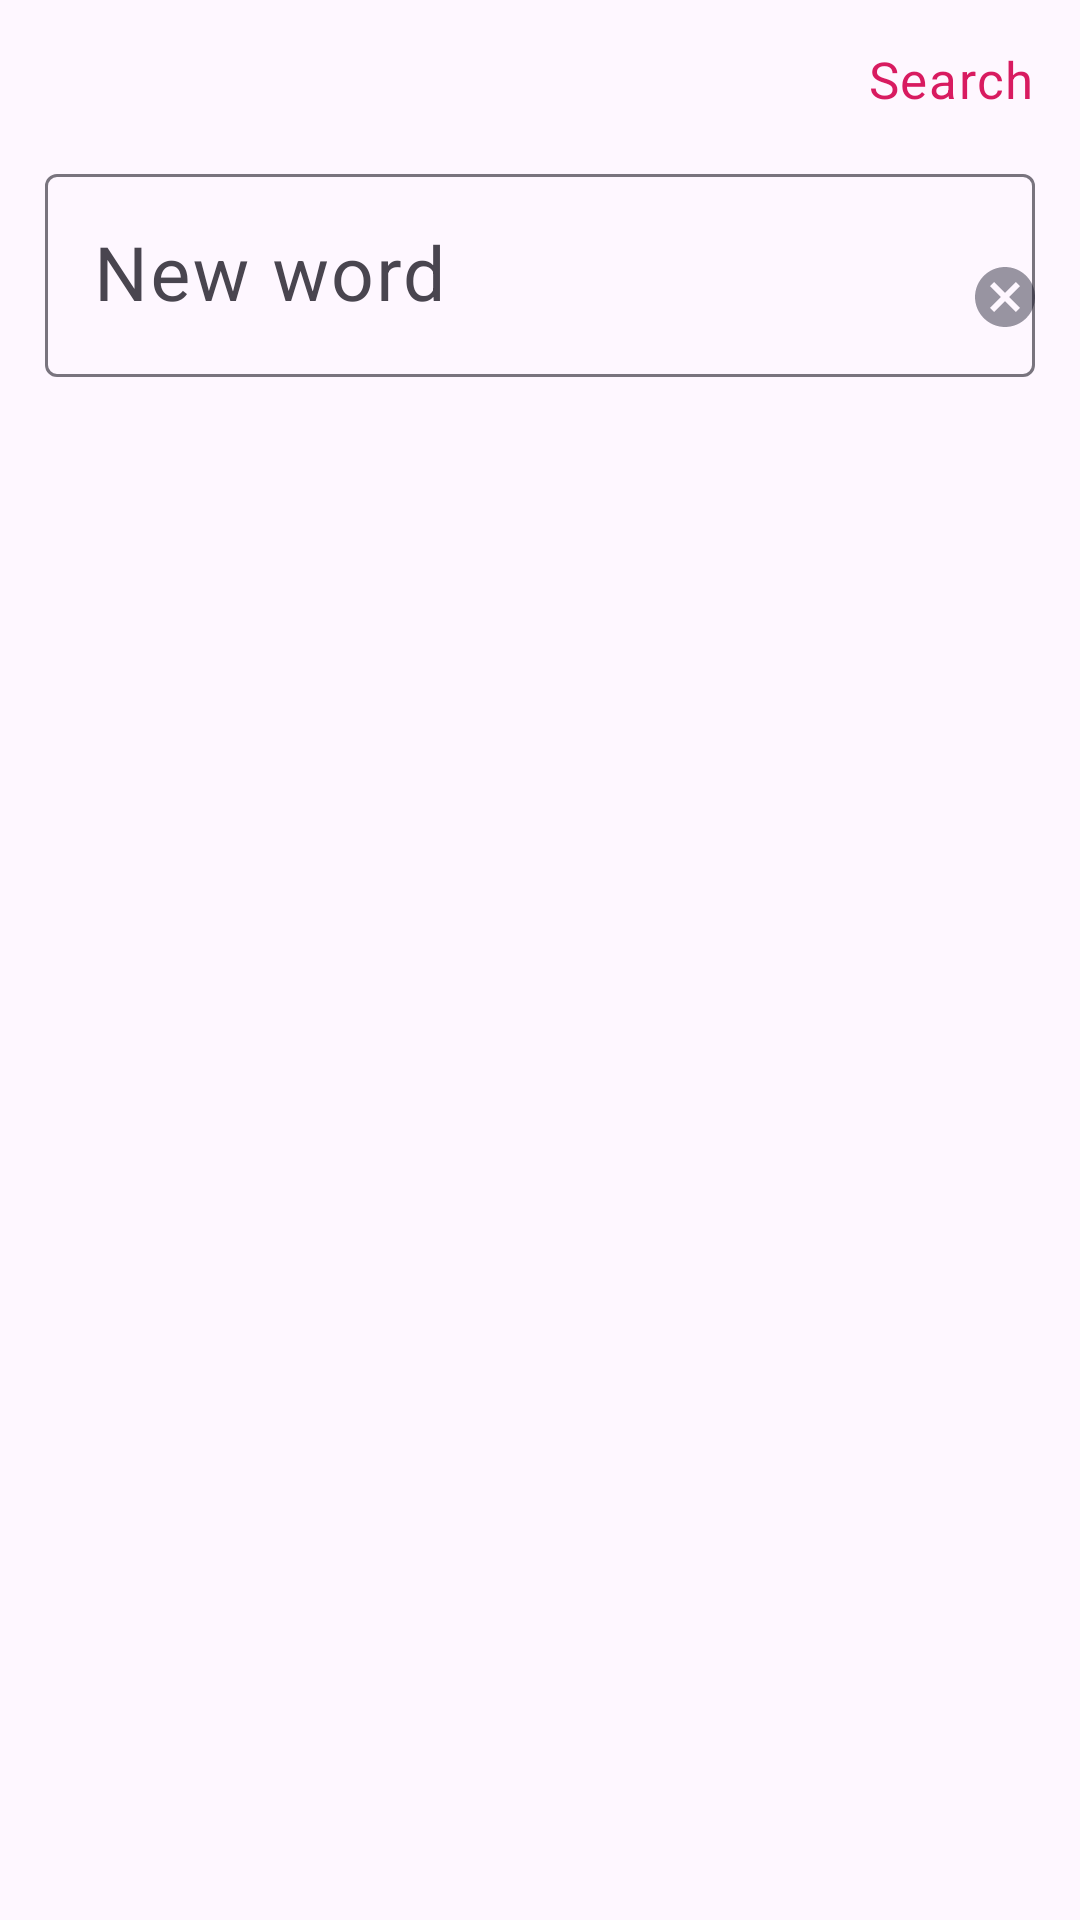

Named icons in this screenshot (1080 x 1920) and their centers, (x,y):
delete text: (1005,297)
